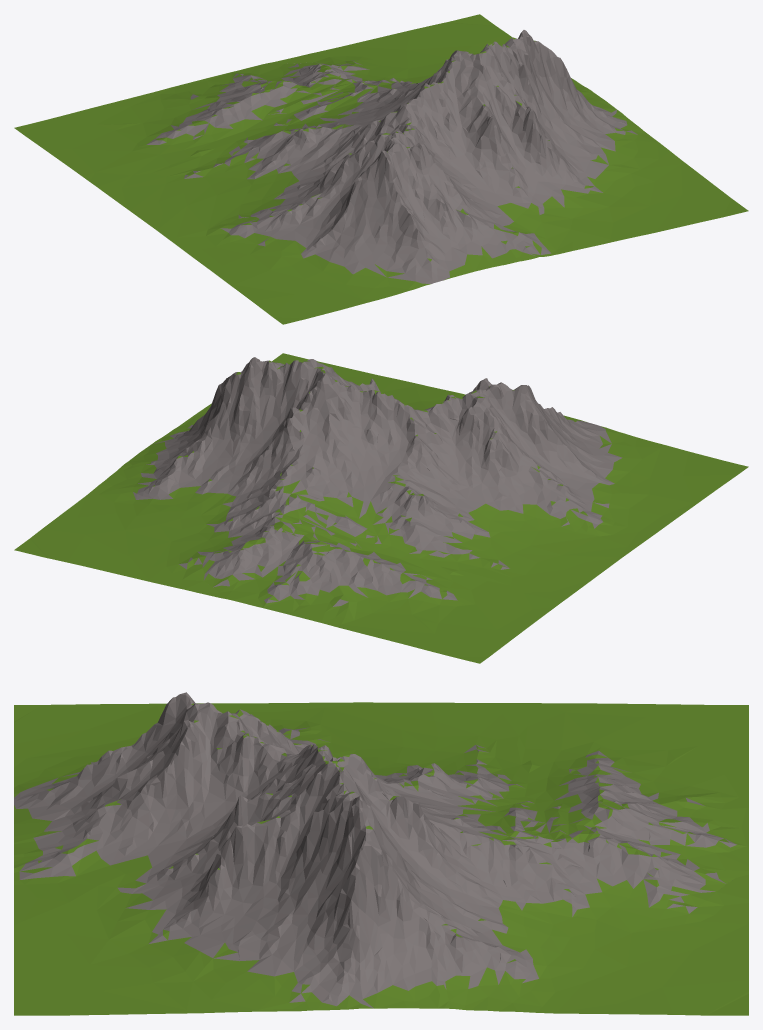
Rendered from landscape_tutorial.glb.
3 views of the same model, one above another, from view 1: azimuth 30°, elevation 25°; view 2: azimuth 150°, elevation 25°; view 3: azimuth 270°, elevation 25° (orthographic). The views are drawn at different scales.
Parts seen in each view (by area): view 1: Cube; view 2: Cube; view 3: Cube.
Part boxes in pixels (bbox=[...]): Cube: bbox=[14, 14, 748, 324]; Cube: bbox=[14, 353, 748, 663]; Cube: bbox=[14, 692, 748, 1015].
Size of what is drawn, in the model's own units: 6.54 by 1.54 by 6.54.
